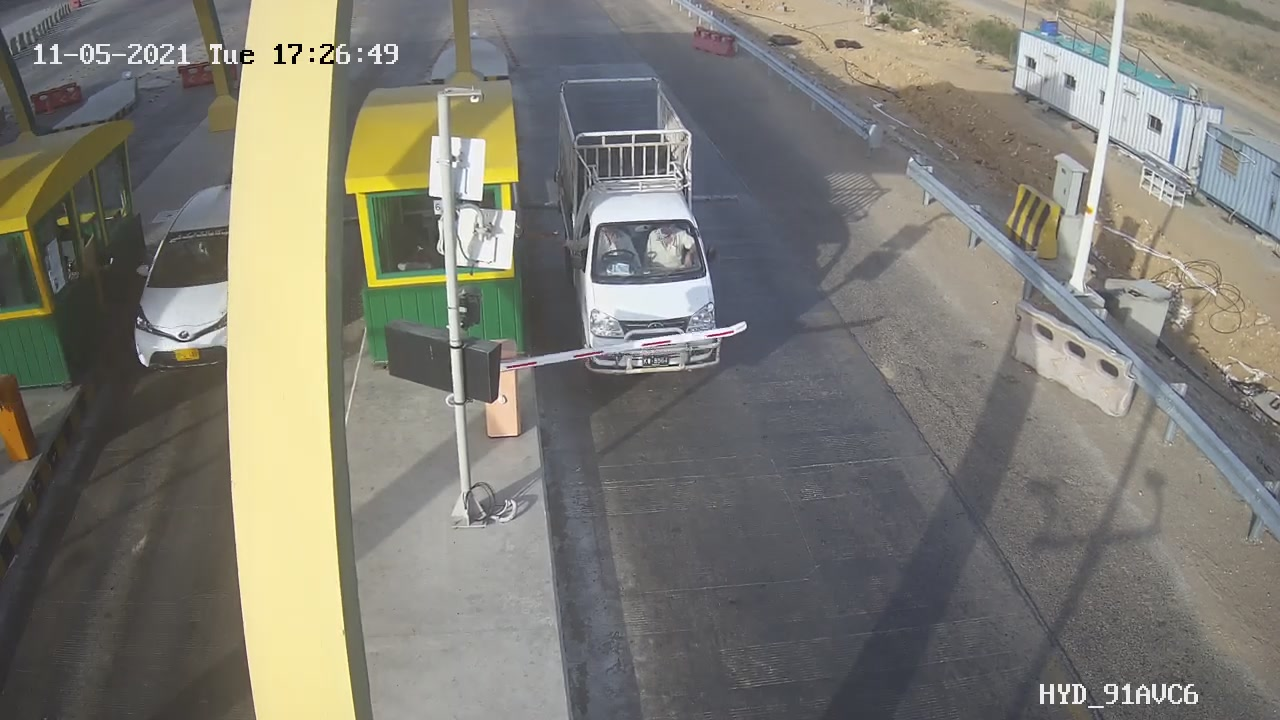F2: (534, 61, 752, 399)
